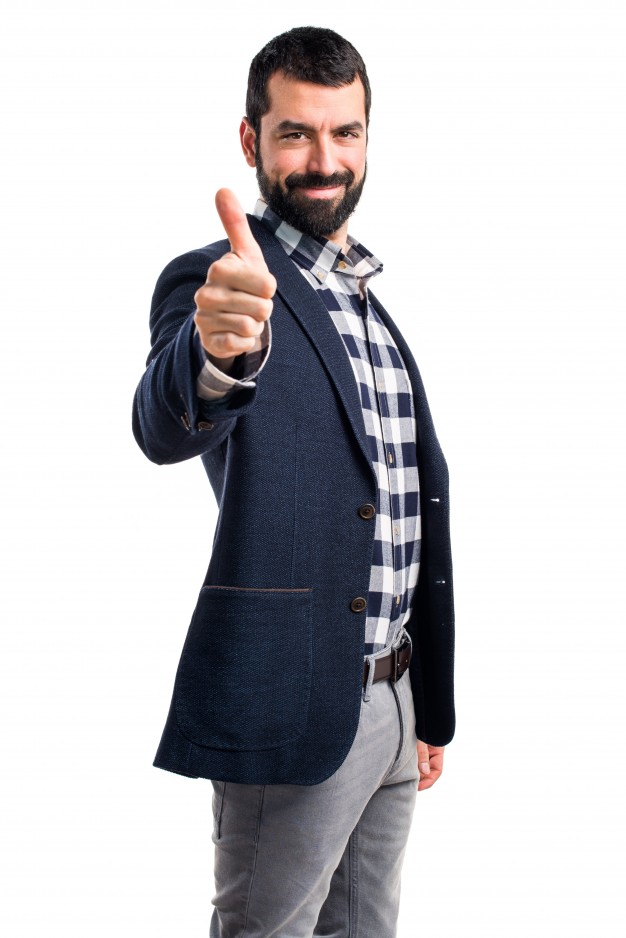thumbsup: (193, 187, 278, 354)
